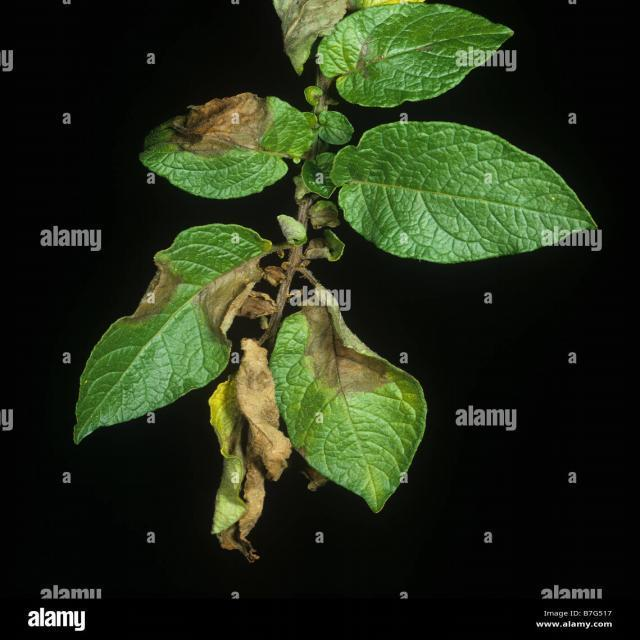Healthy Leaf: (332, 116, 610, 273)
